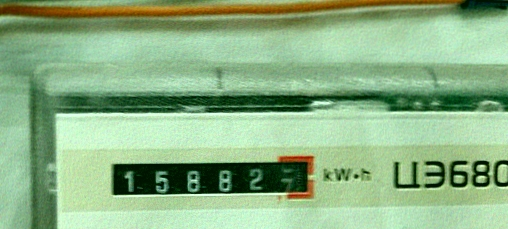1: (123, 169, 138, 194)
2: (249, 166, 266, 192)
5: (154, 169, 171, 194)
7: (280, 176, 295, 192)
8: (185, 169, 203, 193), (217, 167, 234, 192)
screen: (99, 149, 326, 209)
